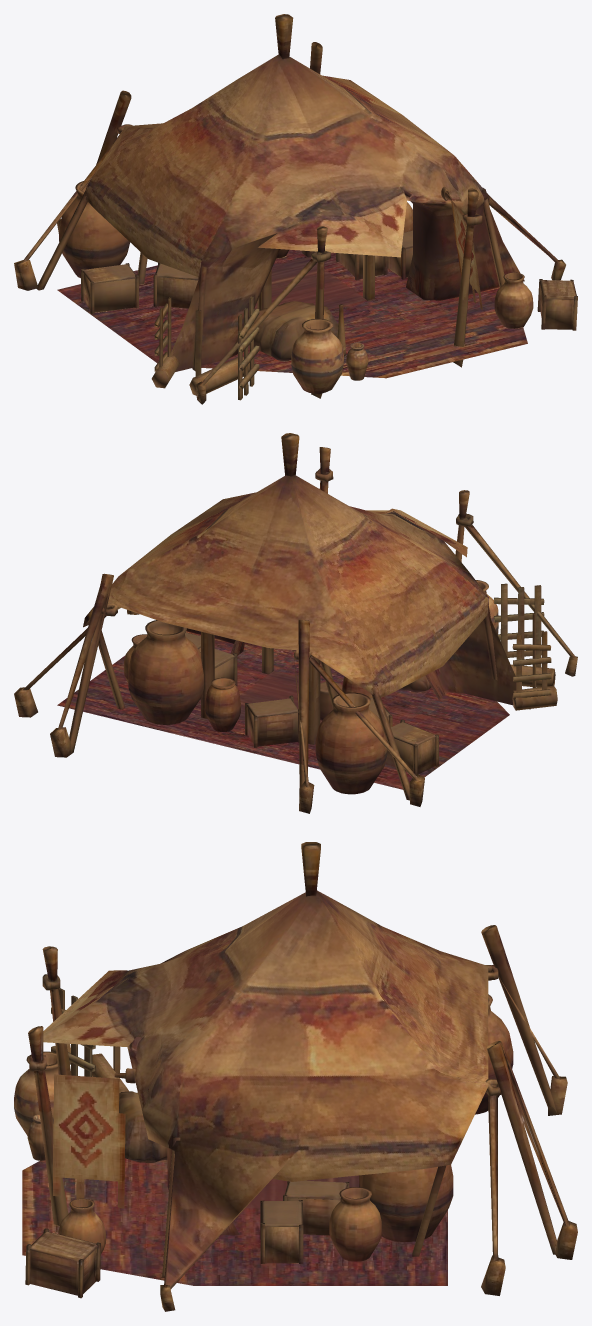
The model's file is tripo_convert_49f70ea4-ed78-4c31-b812-7836e97562f2.fbx.
The picture shows the model from 3 angles, top to bottom: view 1: azimuth 30°, elevation 25°; view 2: azimuth 150°, elevation 25°; view 3: azimuth 270°, elevation 25°; orthographic projection. The views are drawn at different scales.
Parts seen in each view (by area): view 1: tripo_node_49f70ea4; view 2: tripo_node_49f70ea4; view 3: tripo_node_49f70ea4.
Part boxes in pixels (box(x1,y1,x2,y2)): tripo_node_49f70ea4: box(14, 14, 577, 404); tripo_node_49f70ea4: box(14, 433, 577, 813); tripo_node_49f70ea4: box(14, 842, 577, 1311).
Bounding box in the file's own units: 0.9995 × 0.6655 × 0.9419.
1 material, 1 textured.
